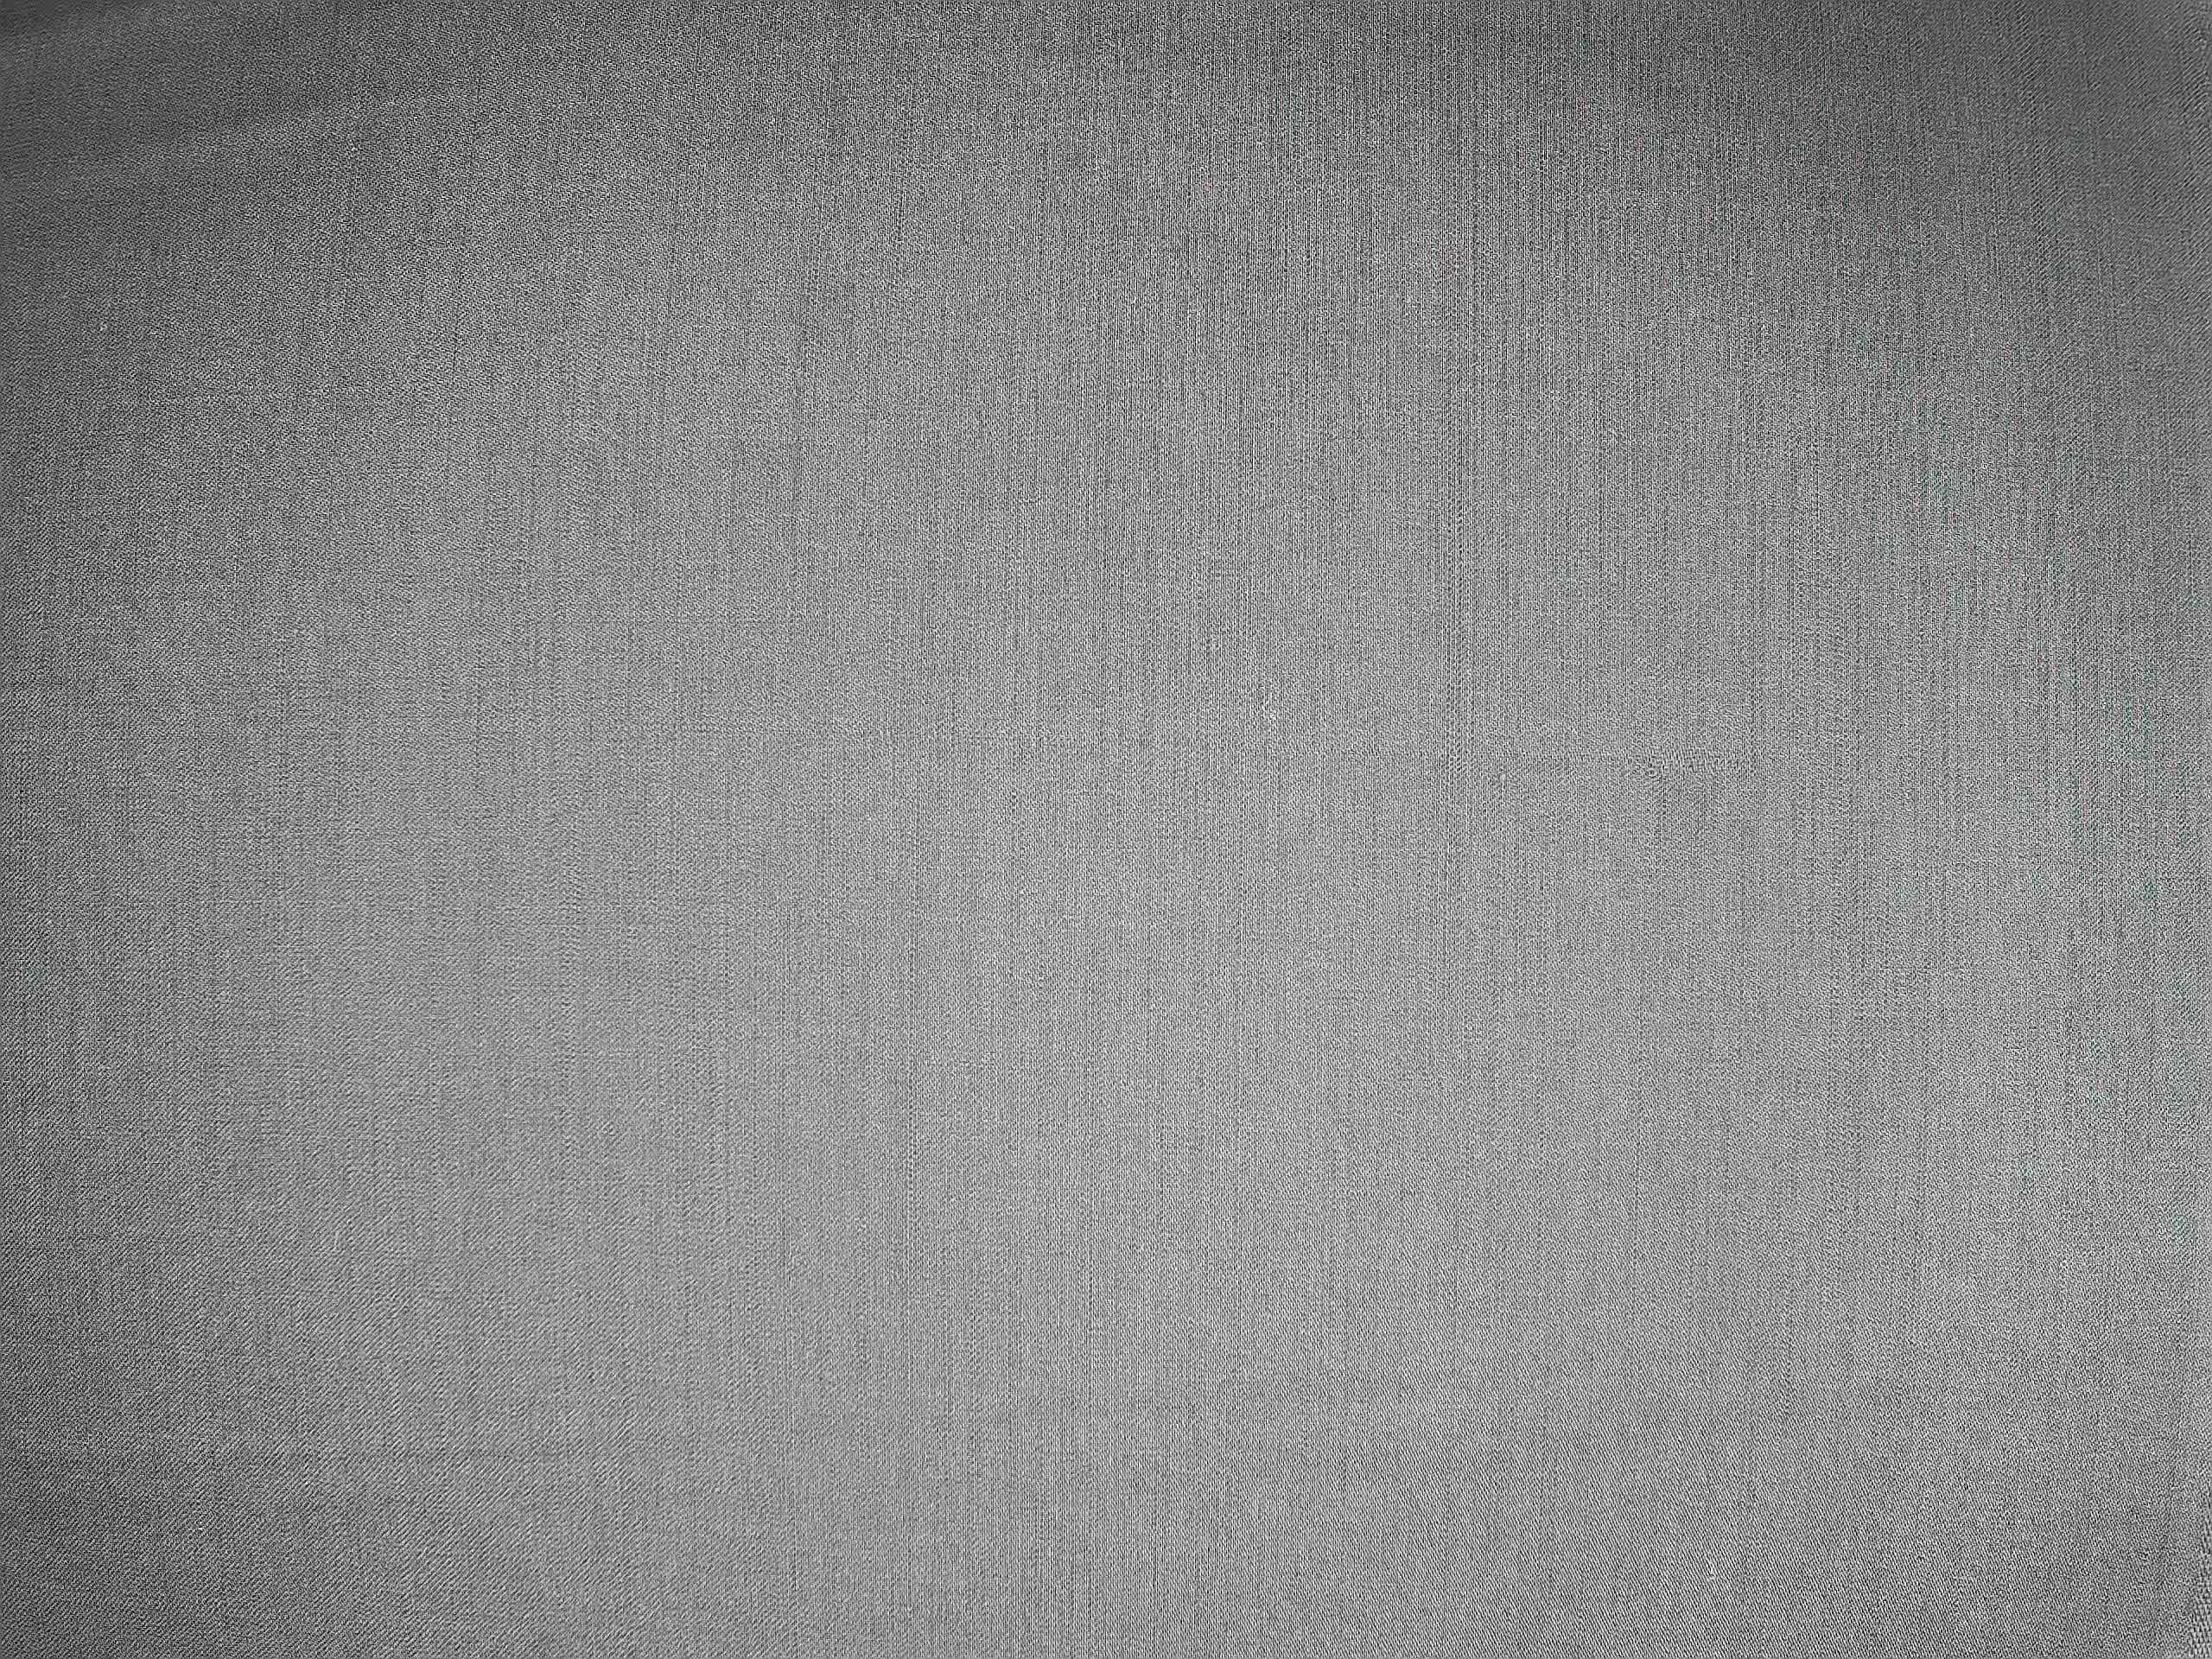thin-spinning: (1433, 390, 1477, 903), (1540, 732, 1766, 788)
